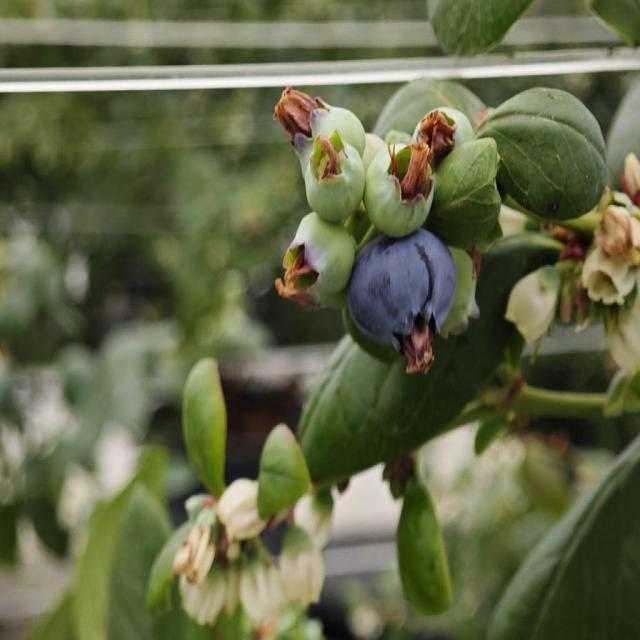RipeBlueBerry: (348, 226, 458, 355)
